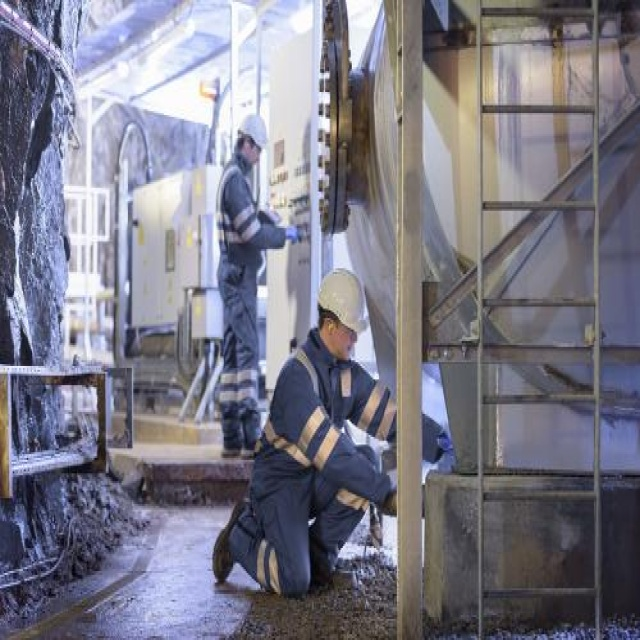Helmet: (308, 257, 373, 370), (221, 102, 282, 183)
Reflective vest: (256, 350, 404, 522), (208, 160, 271, 282)
